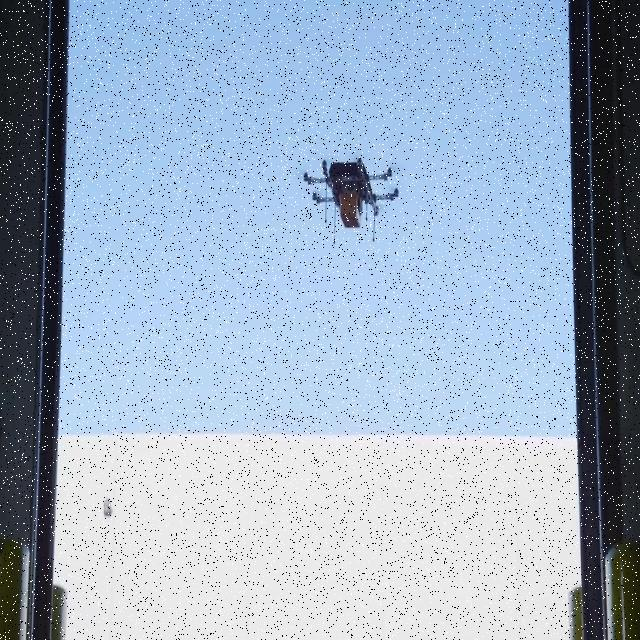UAV: (303, 156, 399, 245)
